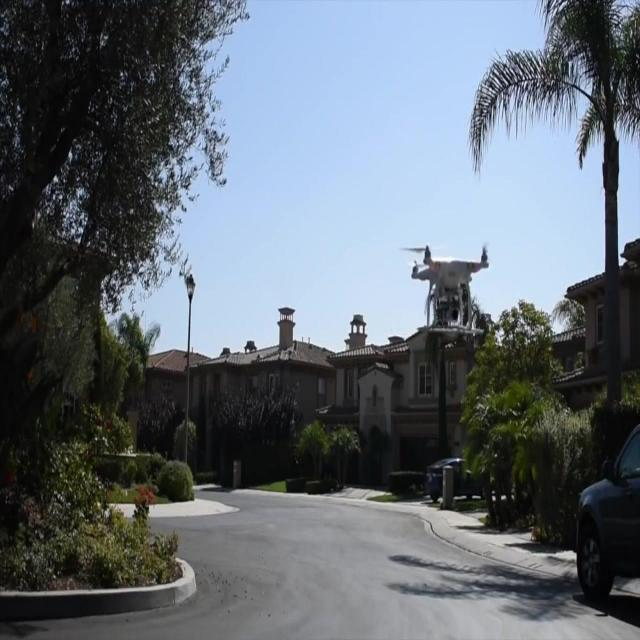UAV: (399, 241, 491, 337)
